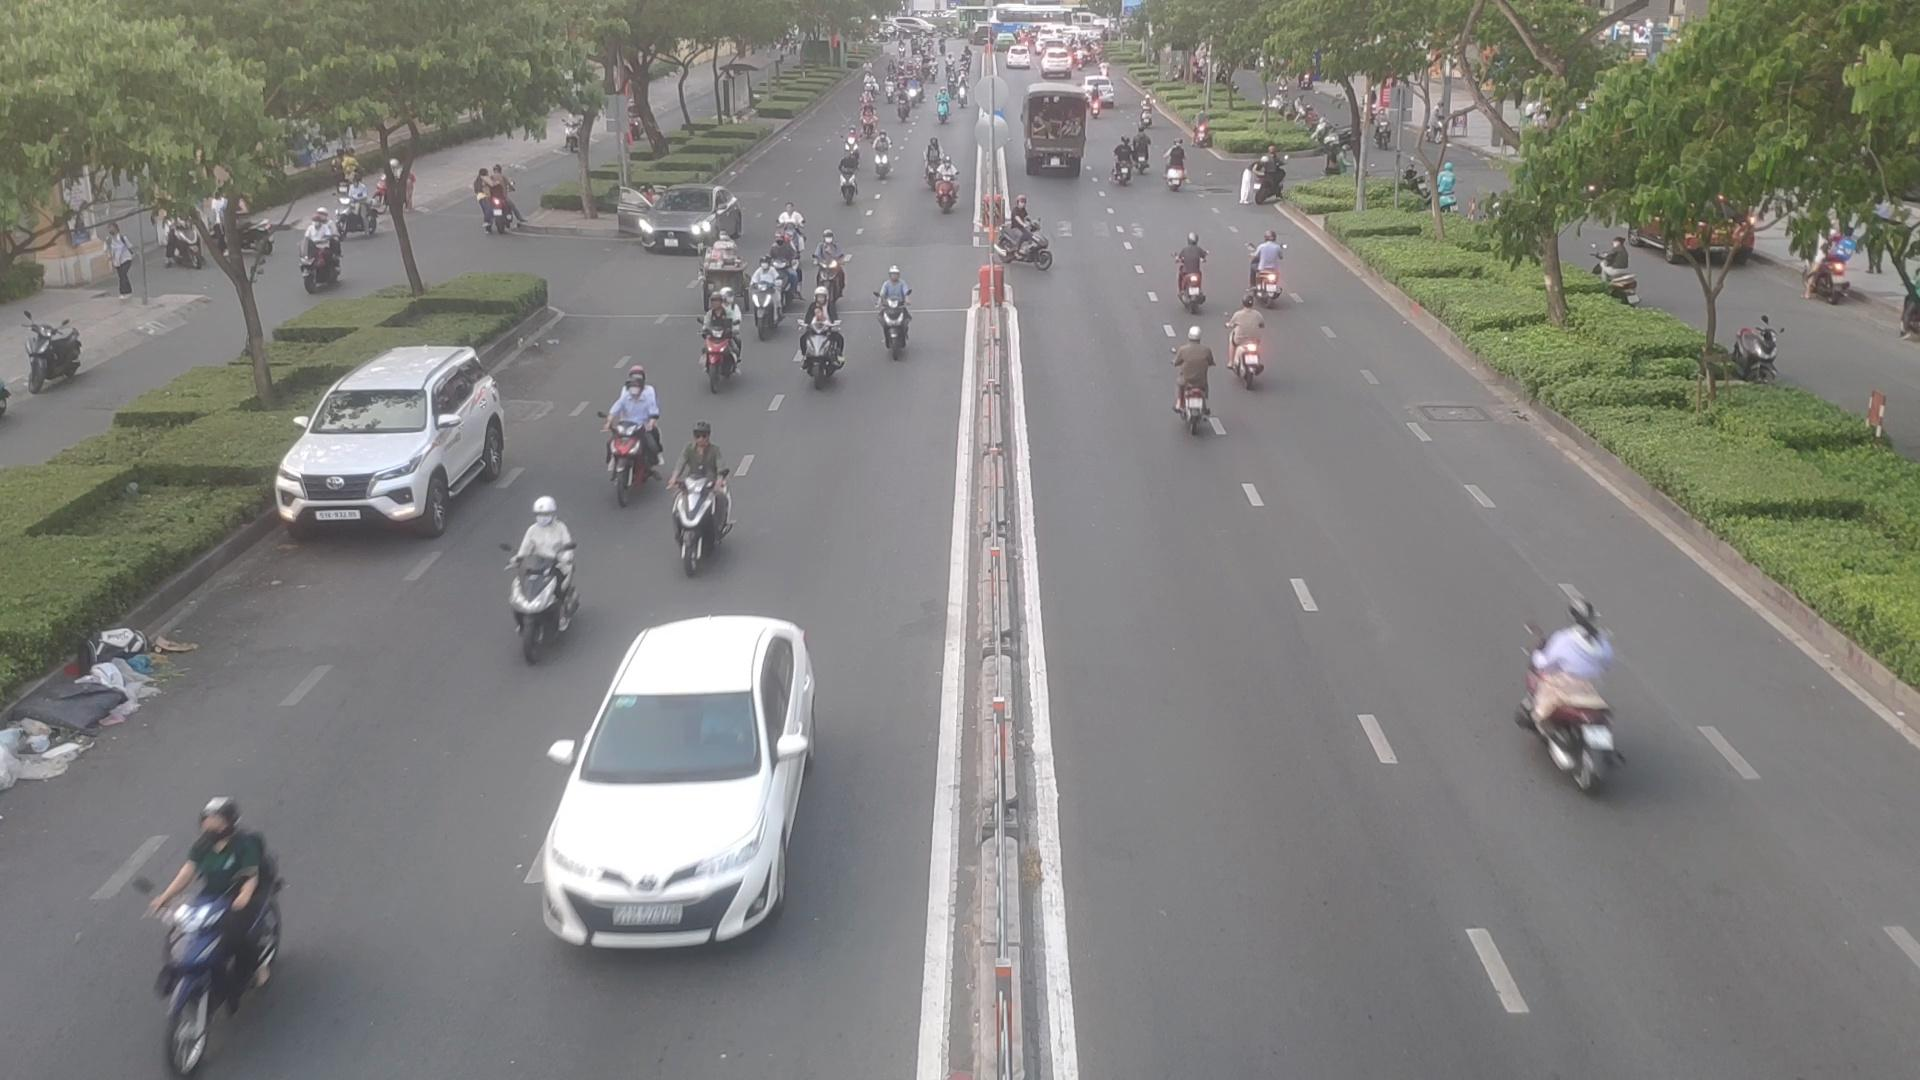car: (527, 622, 818, 948), (274, 345, 512, 535), (620, 187, 733, 255)
motorbike: (153, 787, 280, 1073), (1520, 591, 1621, 808), (671, 419, 733, 564), (508, 549, 585, 662), (596, 356, 653, 493), (996, 191, 1062, 284), (1178, 328, 1221, 440), (1220, 293, 1269, 386), (1163, 220, 1211, 314), (796, 324, 847, 384), (884, 262, 914, 359), (1249, 229, 1280, 320), (814, 229, 851, 306), (757, 261, 786, 353), (924, 153, 960, 223), (699, 327, 741, 385), (1109, 136, 1143, 191), (833, 154, 862, 219), (1166, 141, 1189, 199), (872, 127, 895, 181)
